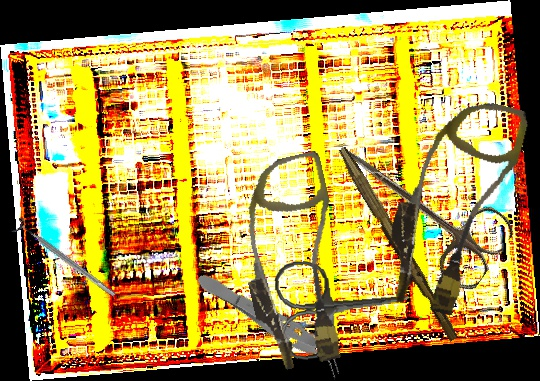Cannula: (374, 86, 532, 323), (222, 150, 365, 374)
Fixation Ring: (10, 215, 120, 304)
Iris Scissors: (315, 117, 519, 295), (272, 249, 415, 363)
Scalpel Handle: (331, 146, 464, 343)
Tissue Forceps: (191, 266, 350, 380)
